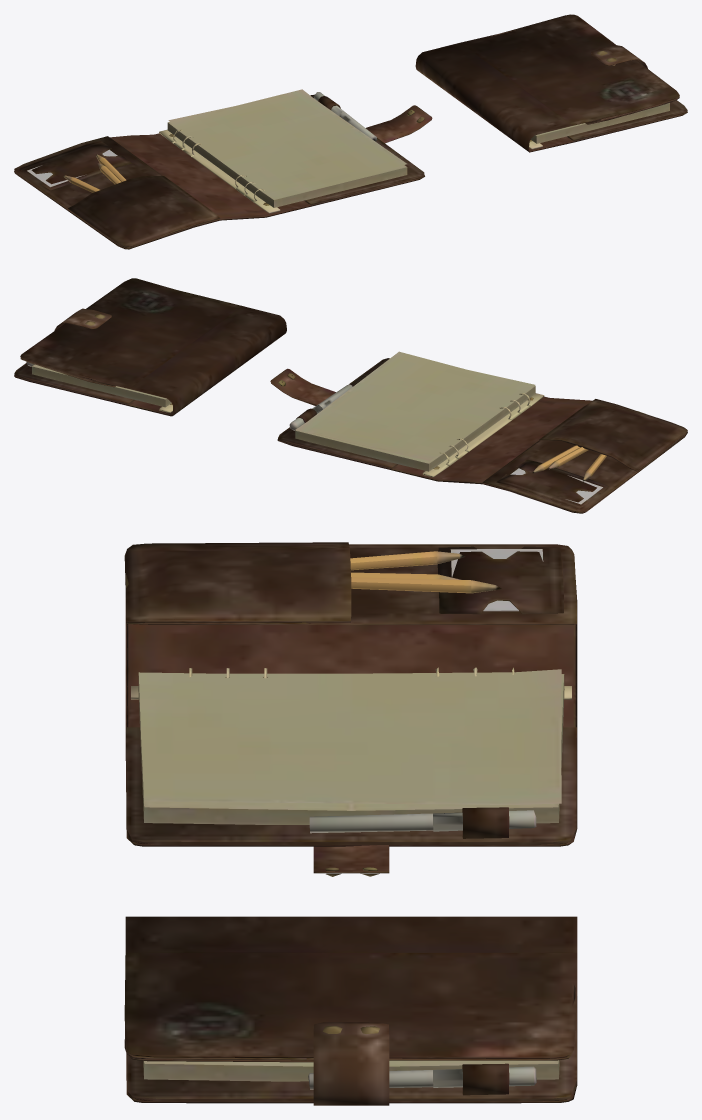
The model's file is binder.glb.
3 renders of one model, top to bottom at view 1: azimuth 30°, elevation 25°; view 2: azimuth 150°, elevation 25°; view 3: azimuth 270°, elevation 25°, orthographic. The views are drawn at different scales.
Parts seen in each view (by area): view 1: binder_notebook, binder_notebook_closed; view 2: binder_notebook, binder_notebook_closed; view 3: binder_notebook, binder_notebook_closed.
Part boxes in pixels (left/top/right/bottom): binder_notebook: left=14, top=89, right=432, bottom=249; binder_notebook_closed: left=415, top=14, right=687, bottom=152; binder_notebook: left=270, top=351, right=687, bottom=513; binder_notebook_closed: left=14, top=278, right=286, bottom=416; binder_notebook: left=124, top=542, right=577, bottom=876; binder_notebook_closed: left=124, top=916, right=577, bottom=1105.
Size of the model in its own units: 0.5836 by 0.0249 by 0.1995.
Materials: 1 (1 with a texture image).
